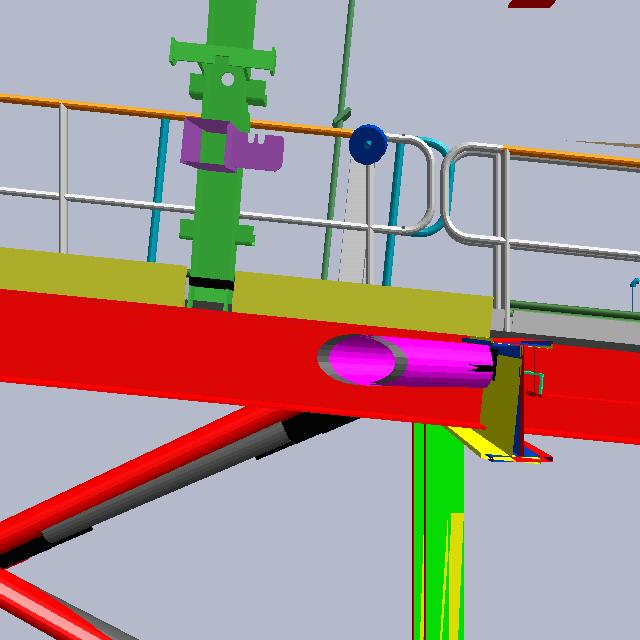Poste: (310, 2, 362, 335)
Soporte: (330, 119, 392, 339)
